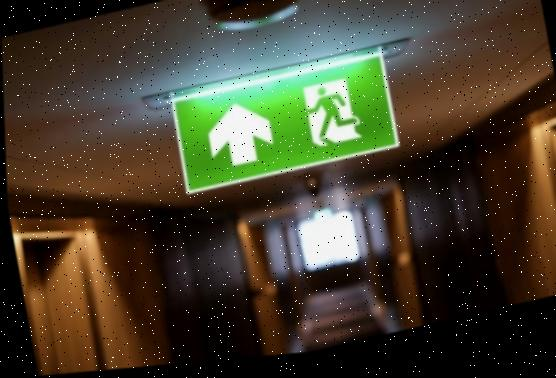emergency_exit: (169, 45, 401, 195)
